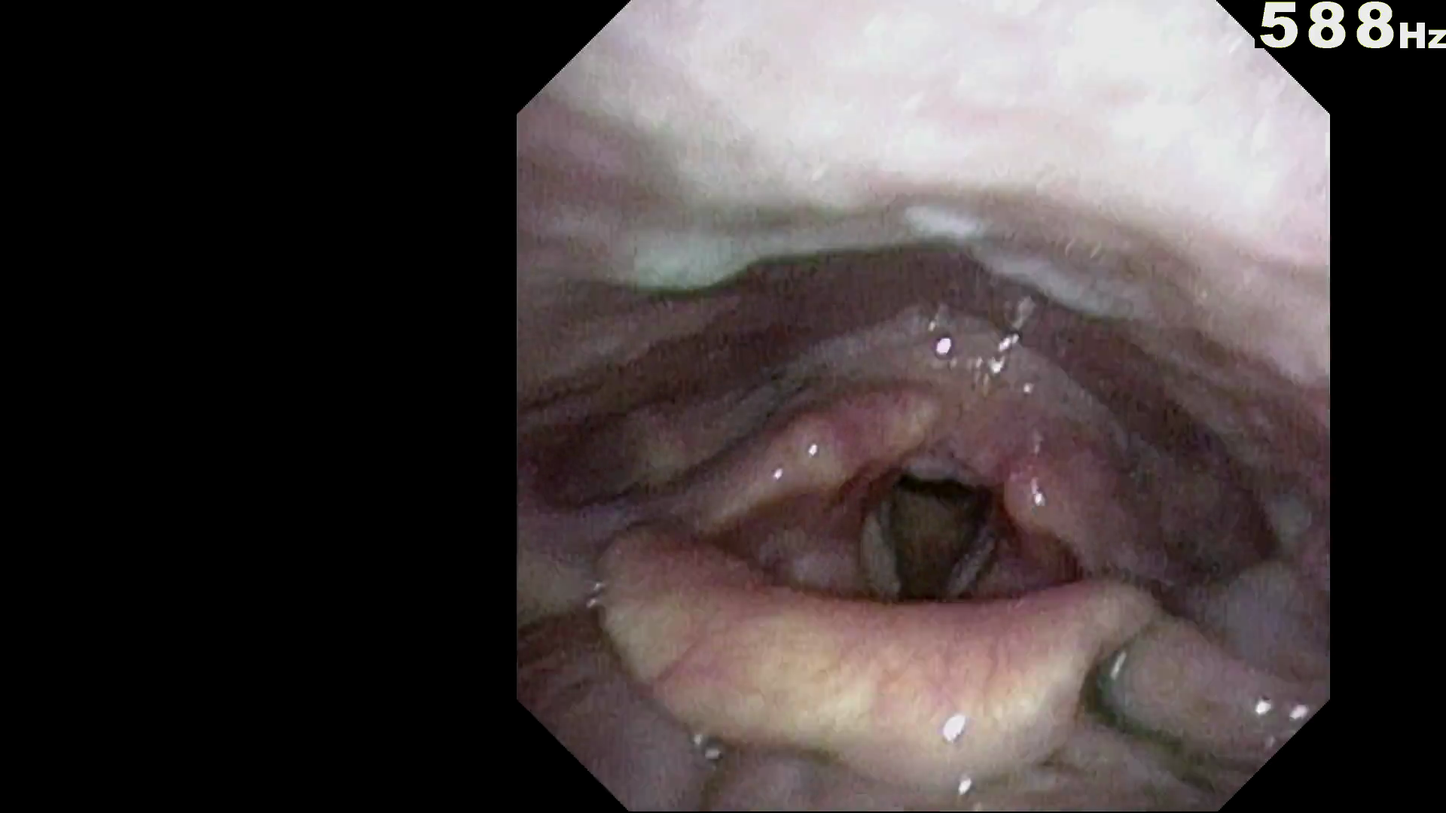trachea: (871, 468, 995, 621)
